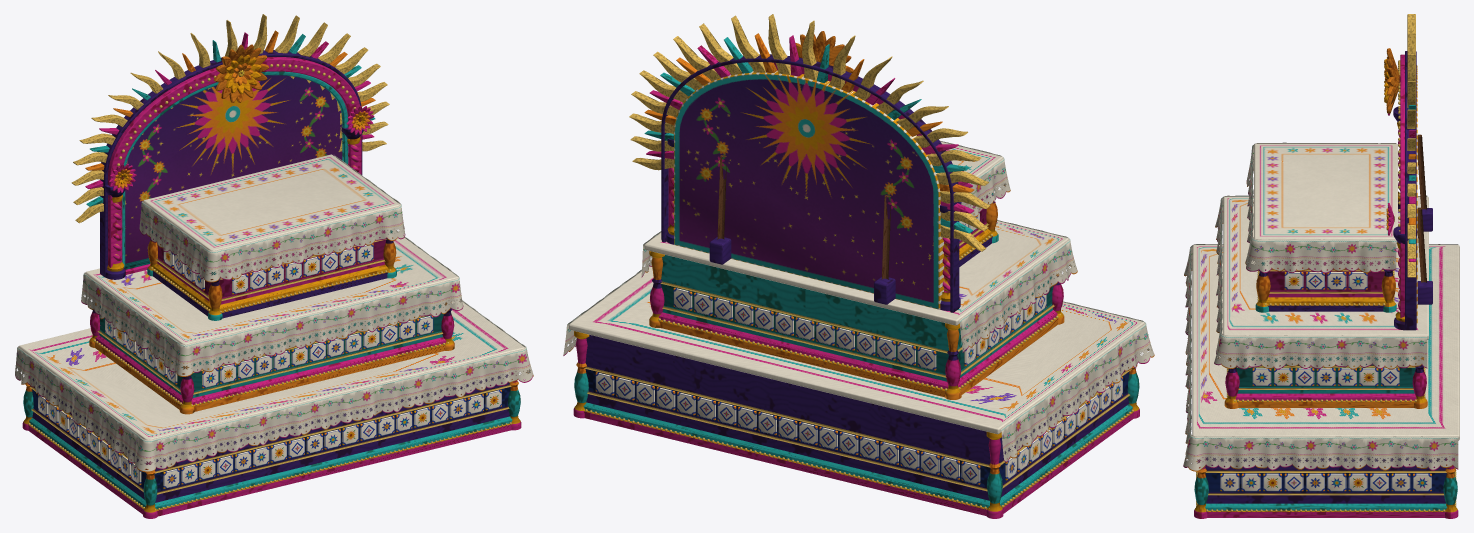
The model's file is w3_altar_tiers.glb.
The picture shows the model from 3 angles, left to right: view 1: azimuth 30°, elevation 25°; view 2: azimuth 150°, elevation 25°; view 3: azimuth 270°, elevation 25°; orthographic projection. The views are drawn at different scales.
Parts seen in each view (by area): view 1: w3_altar_tiers; view 2: w3_altar_tiers; view 3: w3_altar_tiers.
Part boxes in pixels (left/top/right/bottom): w3_altar_tiers: left=15, top=14, right=533, bottom=518; w3_altar_tiers: left=563, top=14, right=1154, bottom=518; w3_altar_tiers: left=1183, top=14, right=1459, bottom=518.
Size of the model in its own units: 2.3 by 2.09 by 1.35.
Materials: 6 (6 with a texture image).
